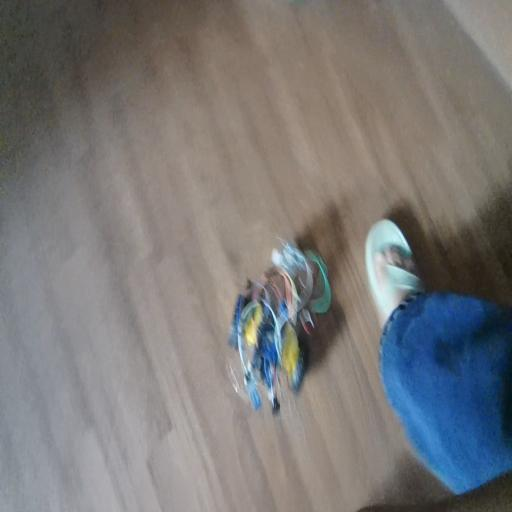car: (233, 238, 321, 374)
